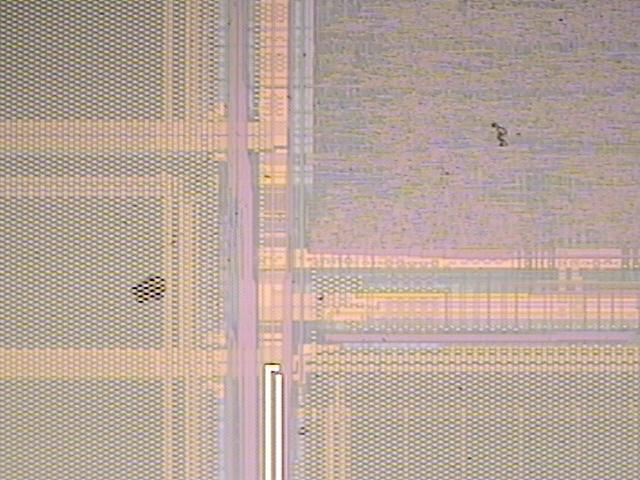PO CONTAMINATION: (129, 15, 570, 464)
